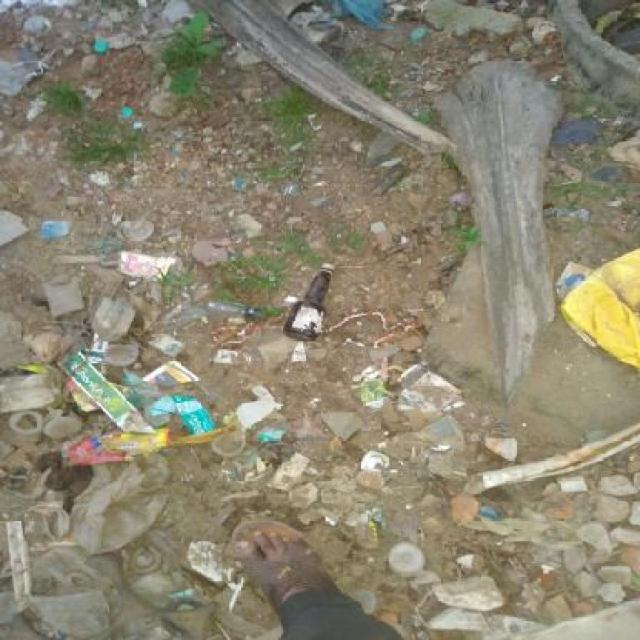garbage: (28, 271, 374, 558), (411, 423, 640, 639), (2, 442, 232, 636), (562, 263, 640, 354)
